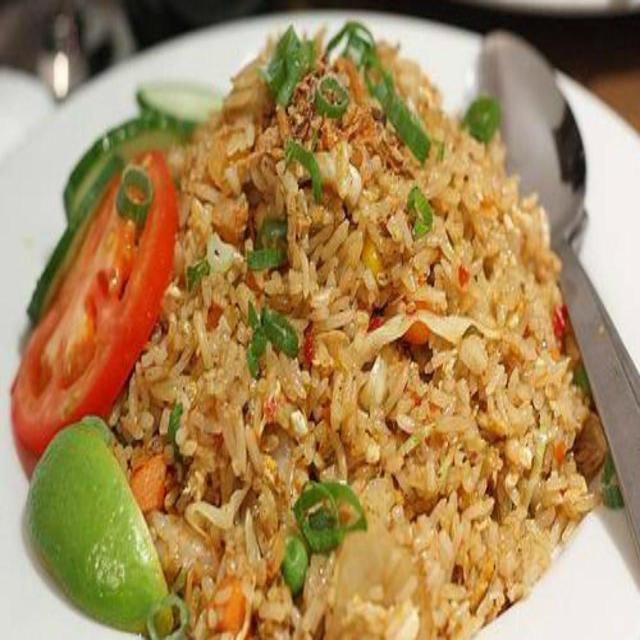Nasi Goreng: (132, 63, 583, 626)
